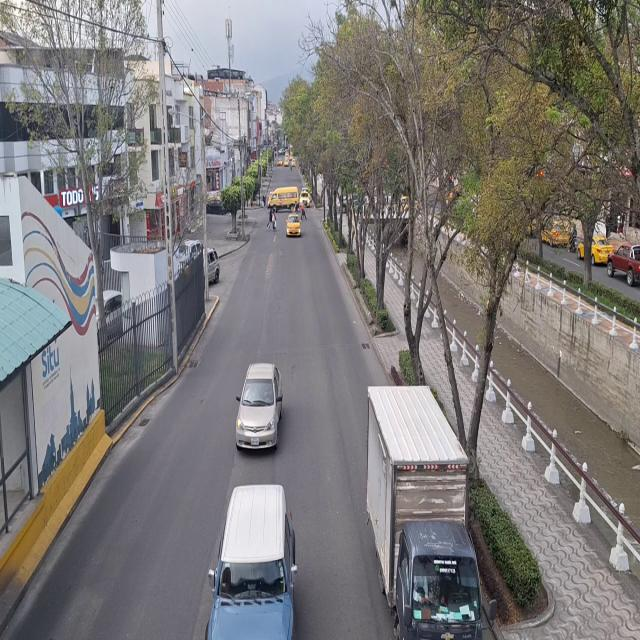CMT: (611, 247, 640, 284)
SED: (235, 364, 279, 449)
SUV: (217, 487, 290, 640)
TRUCK: (367, 386, 483, 639)
